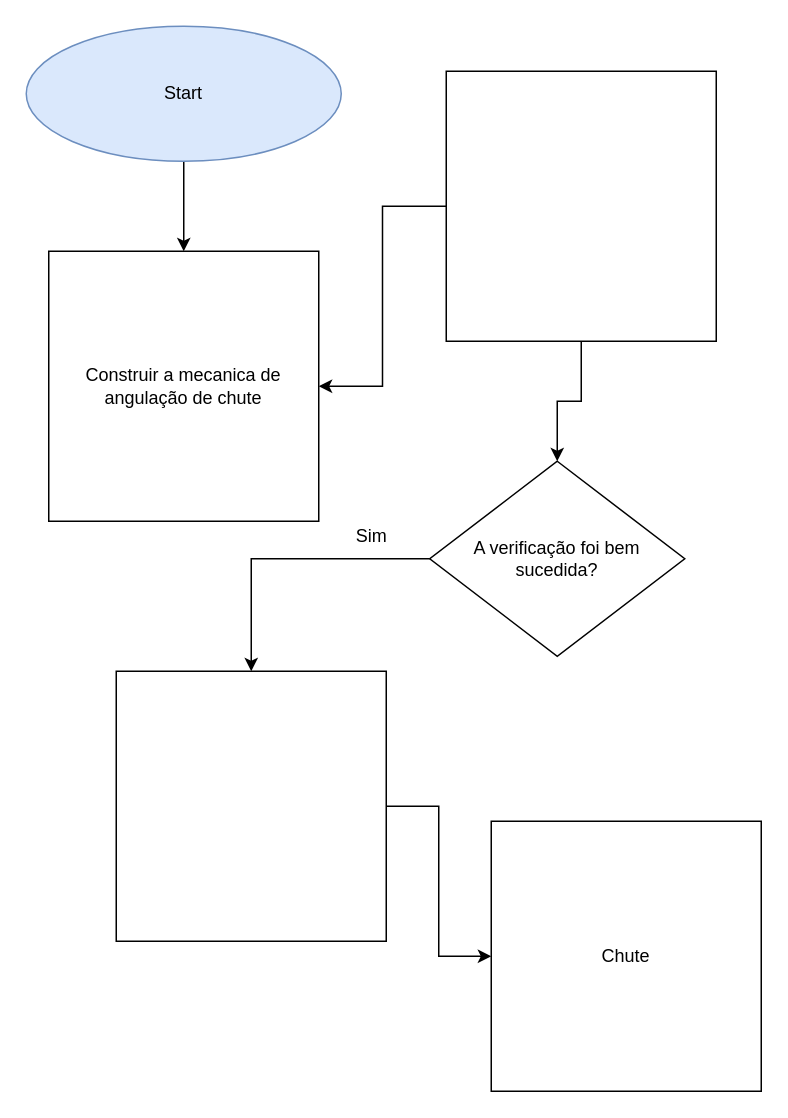
This 788x1118 diagram has some shape labels left out. The shapes that lost their labels are listed below. From the top down, each one's box as (x1, y1, x2, y2) in pixels, then its label:
(445, 70, 716, 341): Mecânica de Verificação de Força
(115, 670, 386, 941): Animação de flecha de força
